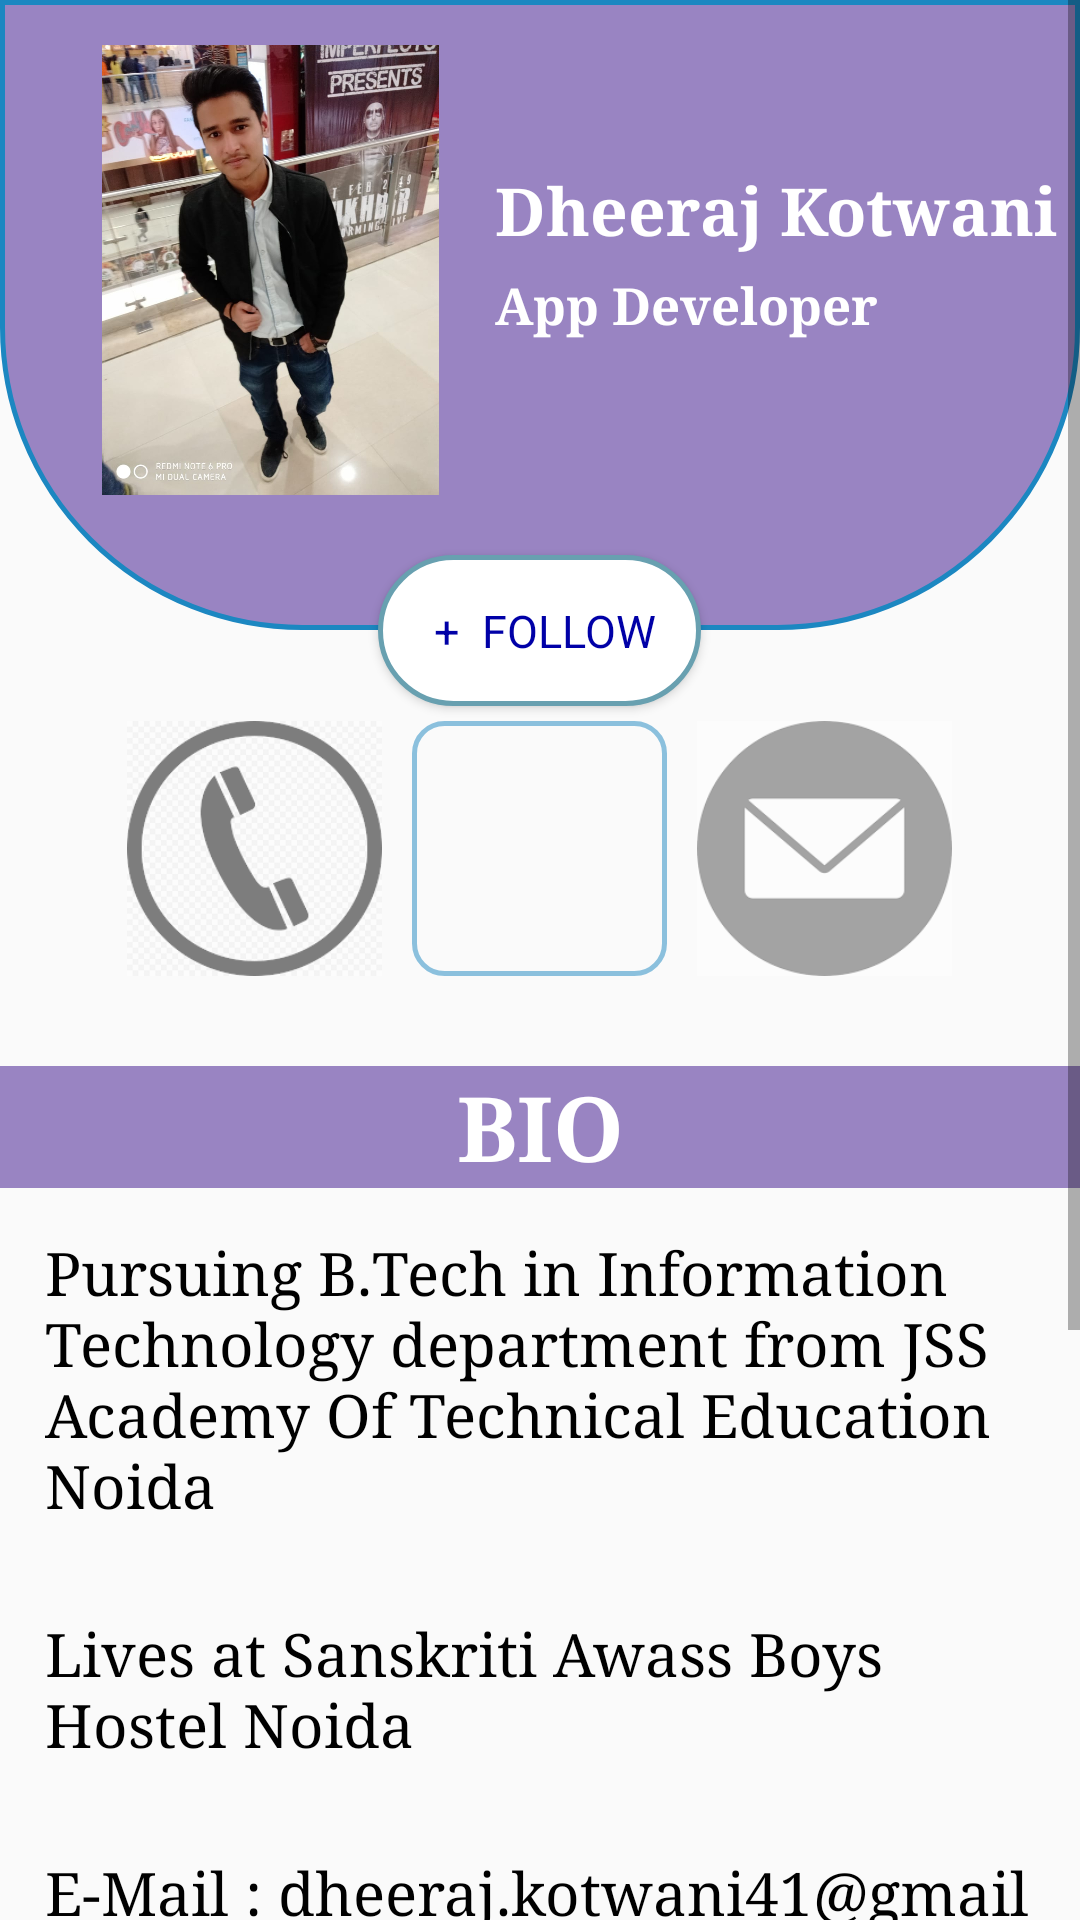

Named icons in this screenshot (1080×1920) and their centers, point (x, y):
call: point (254, 848)
